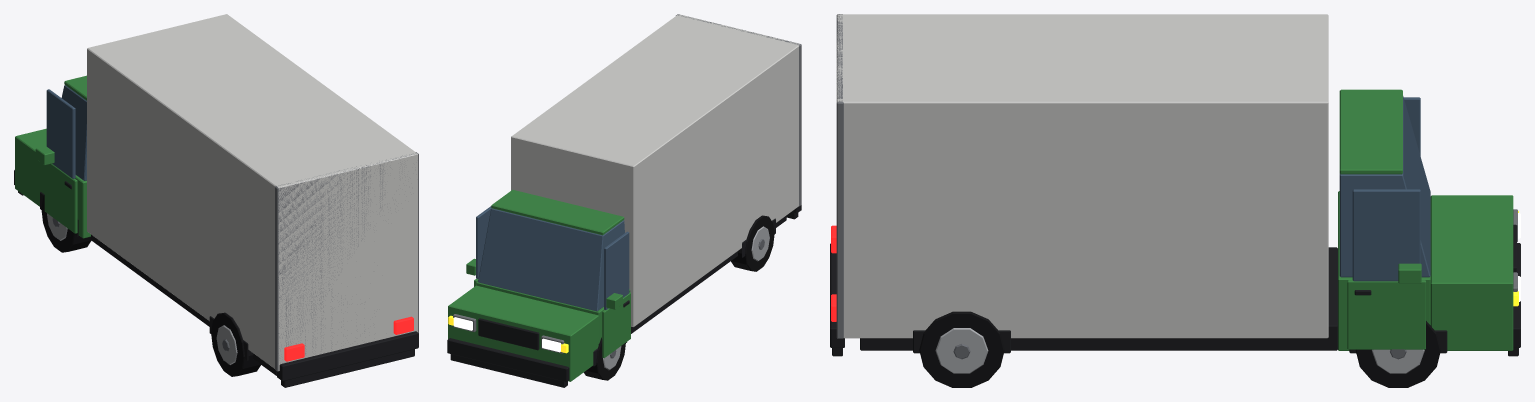
File: car_boxtruck.glb
The picture shows the model from 3 angles, left to right: view 1: azimuth 30°, elevation 25°; view 2: azimuth 150°, elevation 25°; view 3: azimuth 270°, elevation 25°; orthographic projection. The views are drawn at different scales.
Parts seen in each view (by area): view 1: car_body, car_door_FL; view 2: car_body, car_door_FL, car_door_FR; view 3: car_body, car_door_FR.
Boxes of the visible parts, box(x1,y1,x2,y2) form: car_body: box(14, 14, 418, 387); car_door_FL: box(35, 89, 77, 233); car_body: box(447, 14, 801, 387); car_door_FL: box(602, 231, 630, 358); car_door_FR: box(466, 206, 491, 286); car_body: box(830, 14, 1520, 387); car_door_FR: box(1347, 189, 1425, 349).
Size of the model in its own units: 2.73 by 3.39 by 7.44.
